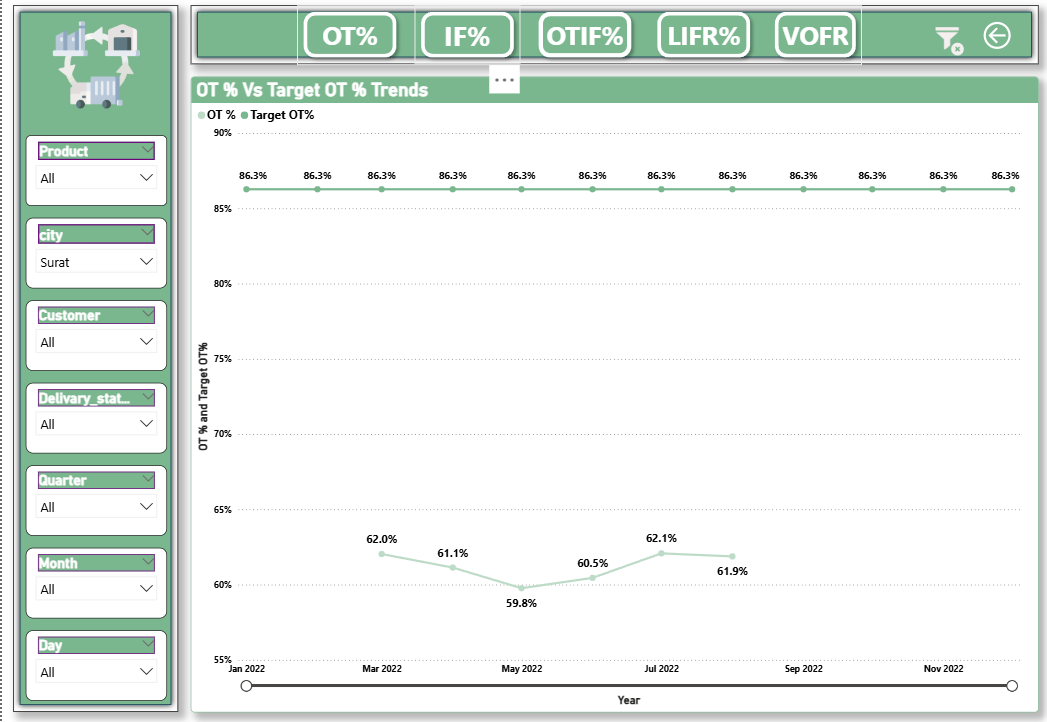

The dashboard page shown, as its layout file describes it:
{"tool":"powerbi","page":{"name":"Trend Analysis","canvas":[1422,1000],"ordinal":2},"visuals":[{"type":"shape","box":[256,16,1152,80],"z":0},{"type":"shape","box":[16,16,224,960],"z":1000},{"type":"shape","box":[400,16,144,80],"z":1000,"group":"g1"},{"type":"lineChart","title":"OT % Vs Target OT % Trends","fields":{"Category":["dim_date.date.Variation.Date Hierarchy.Year","dim_date.date.Variation.Date Hierarchy.Quarter","dim_date.date.Variation.Date Hierarchy.Month","dim_date.date.Variation.Date Hierarchy.Day"],"Y":["Metrices.OT %","Metrices.Avg_On_Time_Target"]},"box":[256,112,1152,864],"z":2000},{"type":"shape","box":[560,16,144,80],"z":3000,"group":"g1"},{"type":"shape","box":[720,16,144,80],"z":5000,"group":"g1"},{"type":"slicer","fields":{"Values":["dim_customers.customer_name"]},"box":[32,416,192,96],"z":5000,"group":"g2"},{"type":"slicer","fields":{"Values":["dim_products.product_name"]},"box":[32,192,192,96],"z":6000,"group":"g2"},{"type":"group","id":"g1","title":"Group 1","box":[400,16,768,80],"z":7000},{"type":"shape","box":[880,16,144,80],"z":7000,"group":"g1"},{"type":"slicer","fields":{"Values":["dim_customers.city"]},"box":[32,304,192,96],"z":7000,"group":"g2"},{"type":"group","id":"g2","title":"Group 4","box":[32,192,192,768],"z":8000},{"type":"slicer","fields":{"Values":["dim_date.date.Variation.Date Hierarchy.Month"]},"box":[32,752,192,96],"z":8000,"group":"g2"},{"type":"shape","box":[1040,16,128,80],"z":9000,"group":"g1"},{"type":"image","box":[32,32,192,128],"z":9000},{"type":"slicer","fields":{"Values":["dim_date.date.Variation.Date Hierarchy.Day"]},"box":[32,864,192,96],"z":9000,"group":"g2"},{"type":"actionButton","box":[1328,32,64,48],"z":10000},{"type":"image","box":[1264,32,48,64],"z":11000},{"type":"slicer","fields":{"Values":["dim_date.date.Variation.Date Hierarchy.Quarter"]},"box":[32,640,192,96],"z":11000,"group":"g2"},{"type":"slicer","fields":{"Values":["fact_order_lines.Delivary_status"]},"box":[32,528,192,96],"z":12000,"group":"g2"}]}

Visuals, with their boxes in screenshot pixels (x1, y1, x2, y2), scaled from the page's 1422x1000 canvas onto the 1047x722 screenshot:
shape: (x1=188, y1=12, x2=1037, y2=69)
shape: (x1=12, y1=12, x2=177, y2=705)
shape: (x1=295, y1=12, x2=401, y2=69)
"OT % Vs Target OT % Trends" lineChart: (x1=188, y1=81, x2=1037, y2=705)
shape: (x1=412, y1=12, x2=518, y2=69)
shape: (x1=530, y1=12, x2=636, y2=69)
slicer - dim_customers.customer_name: (x1=24, y1=300, x2=165, y2=370)
slicer - dim_products.product_name: (x1=24, y1=139, x2=165, y2=208)
"Group 1" group: (x1=295, y1=12, x2=860, y2=69)
shape: (x1=648, y1=12, x2=754, y2=69)
slicer - dim_customers.city: (x1=24, y1=219, x2=165, y2=289)
"Group 4" group: (x1=24, y1=139, x2=165, y2=693)
slicer - dim_date.date.Variation.Date Hierarchy.Month: (x1=24, y1=543, x2=165, y2=612)
shape: (x1=766, y1=12, x2=860, y2=69)
image: (x1=24, y1=23, x2=165, y2=116)
slicer - dim_date.date.Variation.Date Hierarchy.Day: (x1=24, y1=624, x2=165, y2=693)
actionButton: (x1=978, y1=23, x2=1025, y2=58)
image: (x1=931, y1=23, x2=966, y2=69)
slicer - dim_date.date.Variation.Date Hierarchy.Quarter: (x1=24, y1=462, x2=165, y2=531)
slicer - fact_order_lines.Delivary_status: (x1=24, y1=381, x2=165, y2=451)
